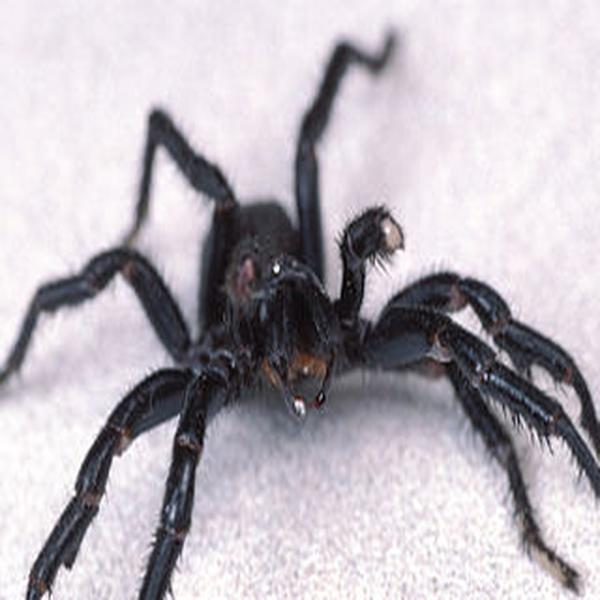Funnel Web Spider: (23, 34, 597, 590)
